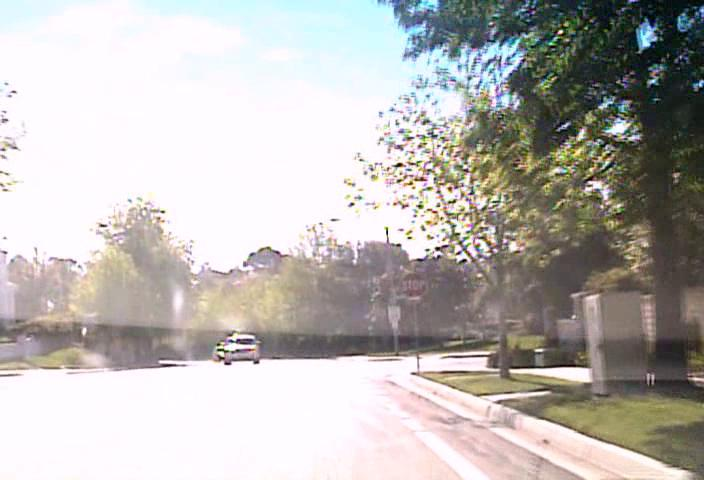stop: (399, 271, 426, 299)
